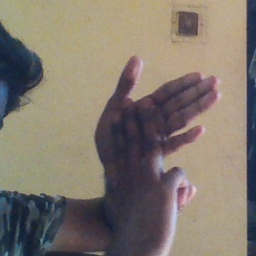M: (88, 53, 225, 234)
